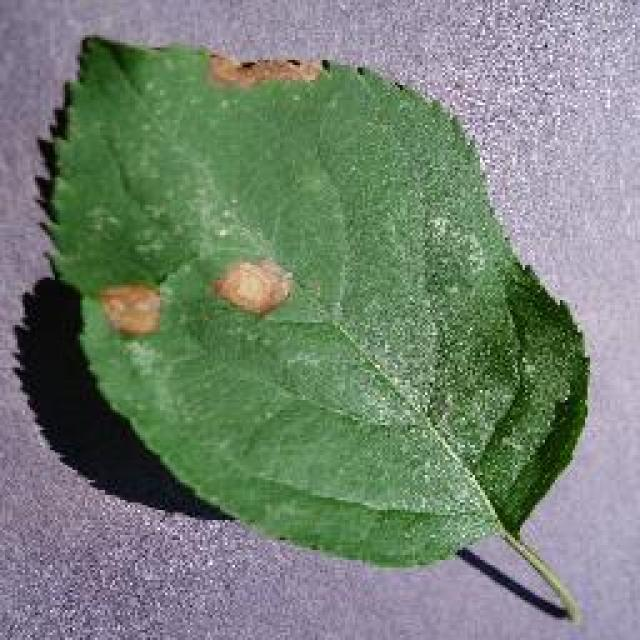apple black rot: (28, 30, 590, 622)
